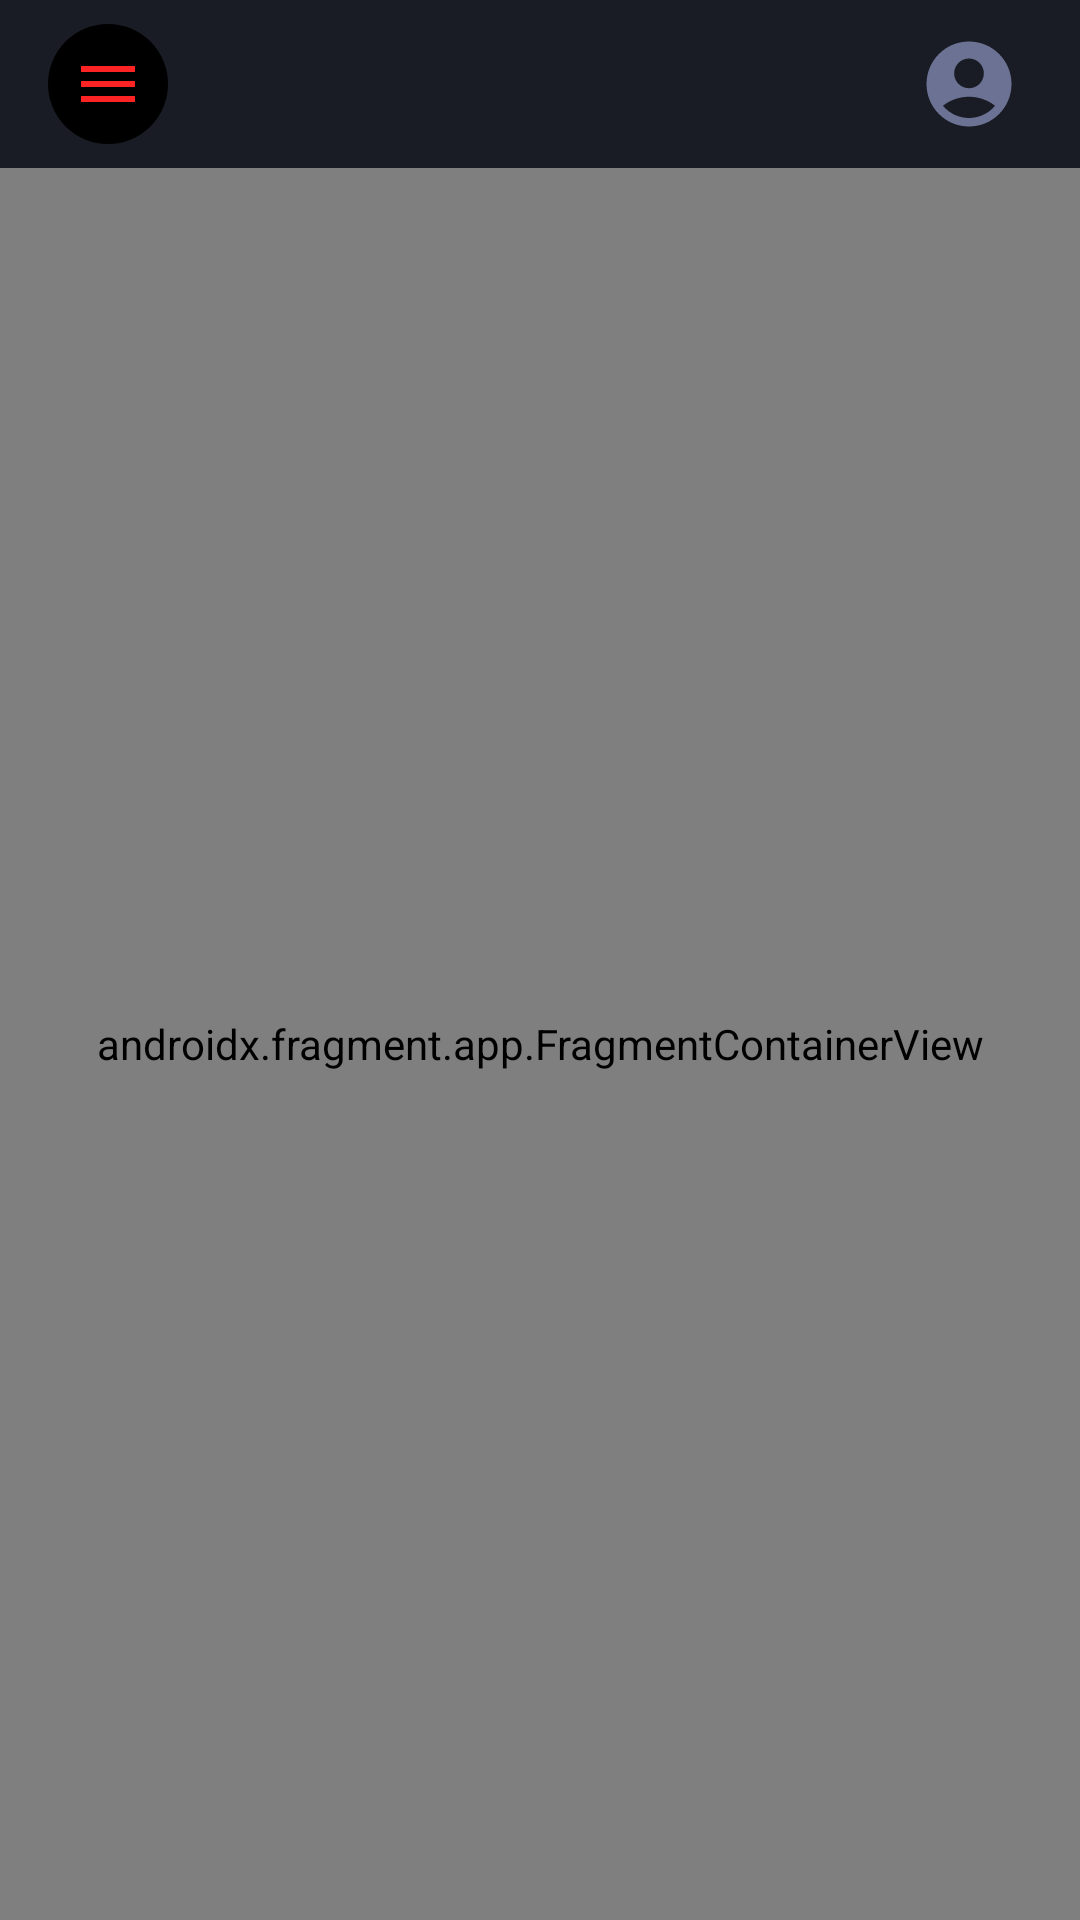

Named icons in this screenshot (1080w x 1920h) and their centers, (x=x, y=y):
account: (x=969, y=84)
menu: (x=108, y=84)
